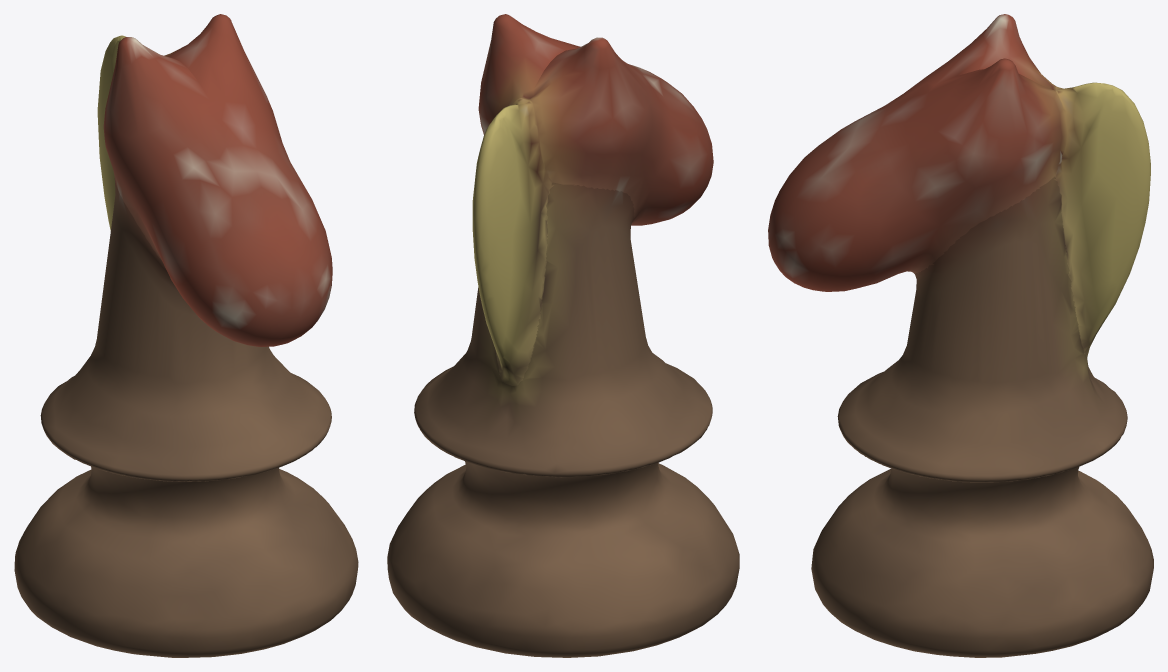
File: knight-dark.glb
The picture shows the model from 3 angles, left to right: view 1: azimuth 30°, elevation 25°; view 2: azimuth 150°, elevation 25°; view 3: azimuth 270°, elevation 25°; orthographic projection. The views are drawn at different scales.
Parts seen in each view (by area): view 1: body; view 2: body; view 3: body.
Part boxes in pixels (box(x1,y1,x2,y2)): body: box(14, 14, 358, 657); body: box(387, 14, 739, 657); body: box(768, 14, 1153, 657).
Size of the model in its own units: 2.16 by 3.88 by 2.43.
